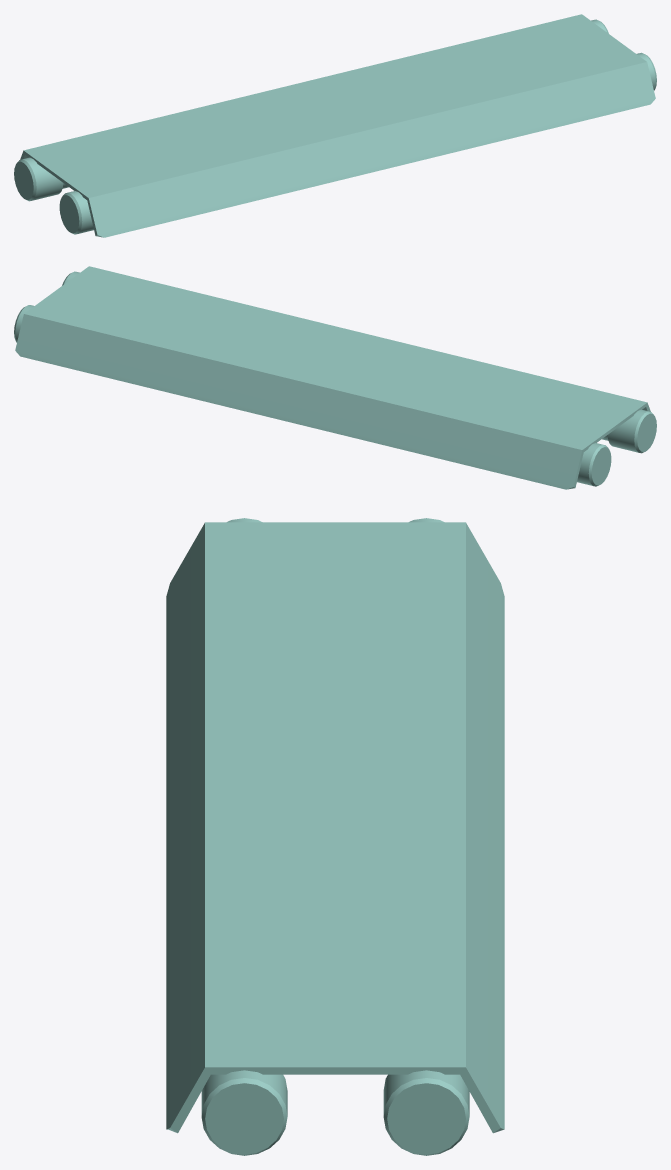
Rendered from Long_Lamp.fbx.
3 renders of one model, top to bottom at view 1: azimuth 30°, elevation 25°; view 2: azimuth 150°, elevation 25°; view 3: azimuth 270°, elevation 25°, orthographic. The views are drawn at different scales.
Parts seen in each view (by area): view 1: Long_Lamp; view 2: Long_Lamp; view 3: Long_Lamp.
Boxes of the visible parts, x1,y1,x2,y2 form: Long_Lamp: [14, 14, 656, 237]; Long_Lamp: [14, 266, 656, 489]; Long_Lamp: [166, 518, 504, 1155].
Size of the model in its own units: 140 by 9.34 by 35.39.
